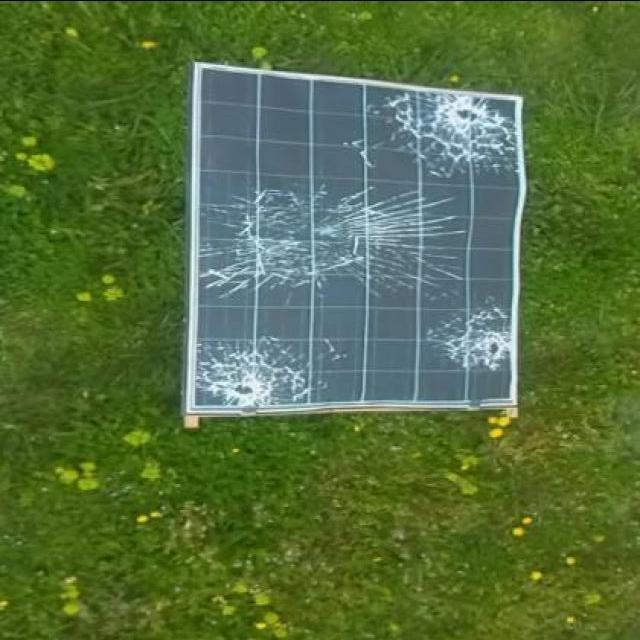cracked: (180, 58, 530, 418)
